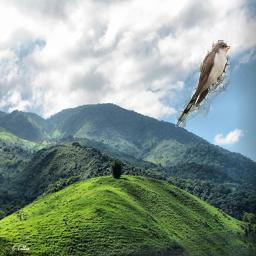Cuckoo: (176, 41, 231, 128)
